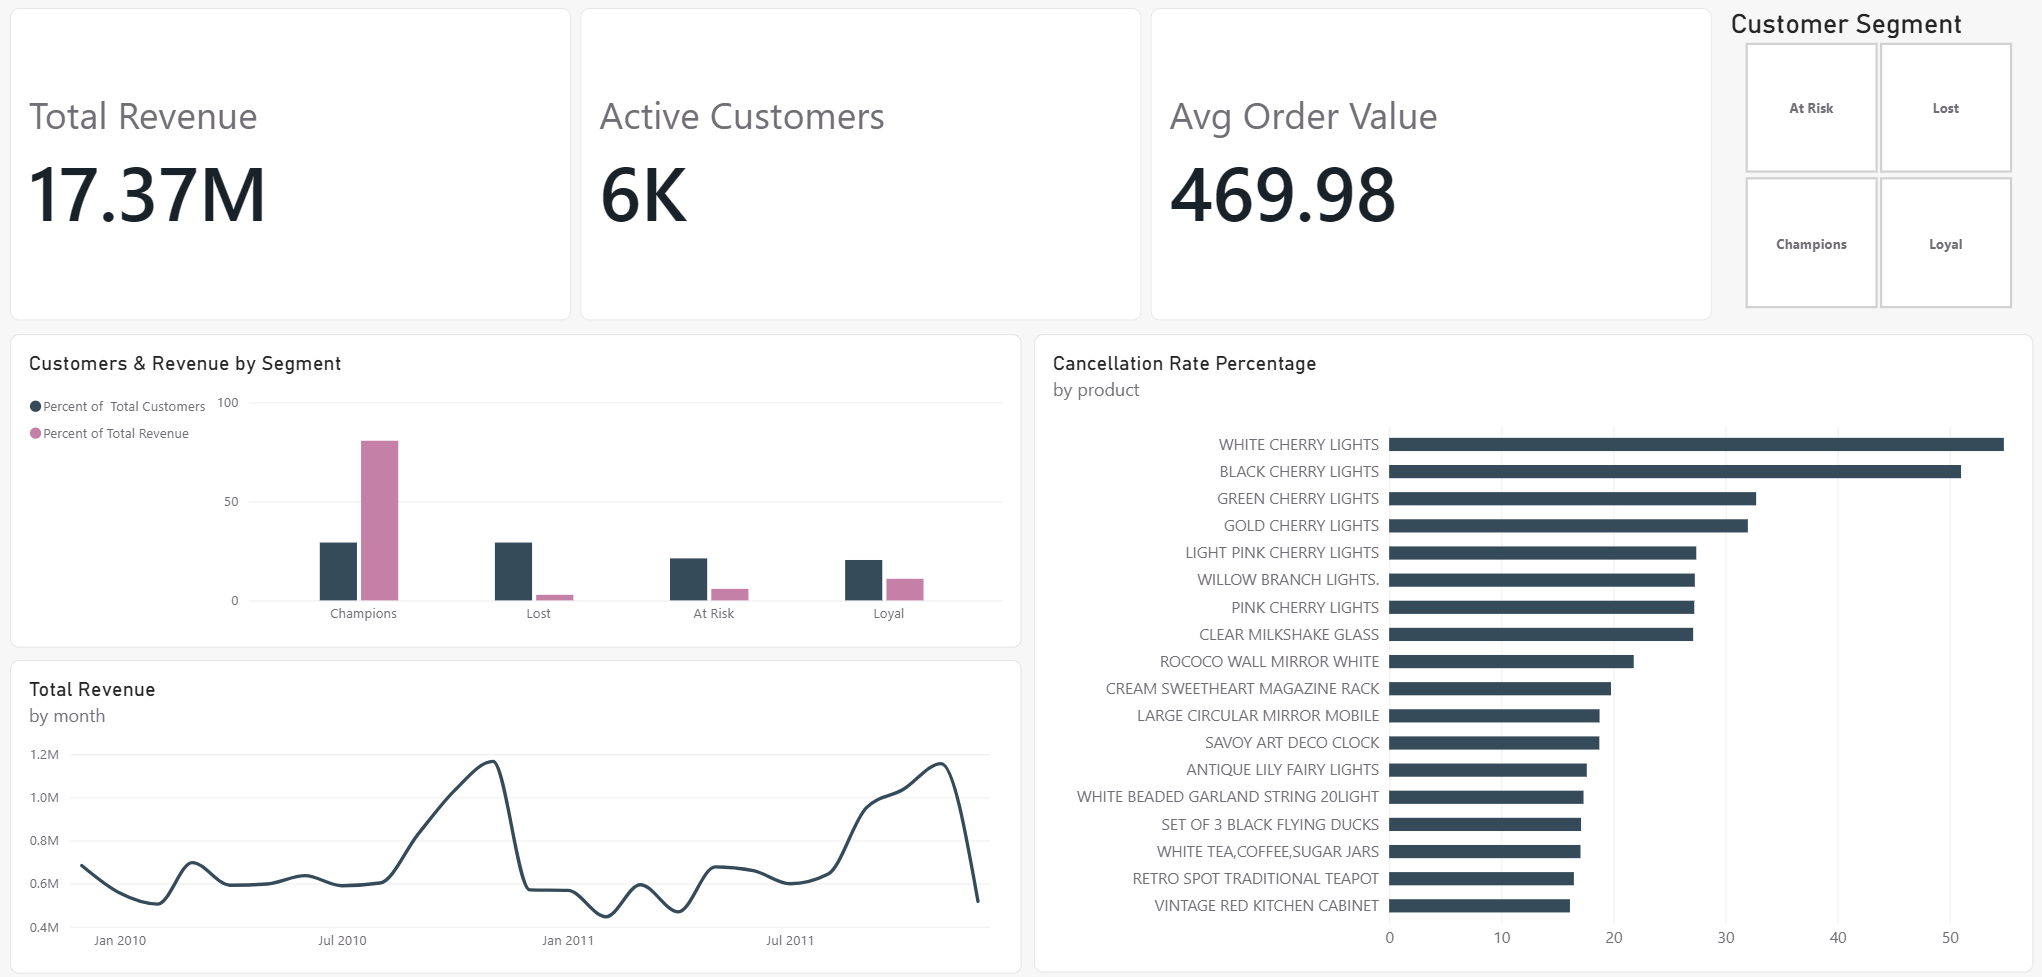

The dashboard page shown, as its layout file describes it:
{"tool":"powerbi","page":{"name":"Page 1","canvas":[1920,1080],"ordinal":0},"visuals":[{"type":"cardVisual","fields":{"Data":["rfm_customer_segments.Total Revenue","rfm_customer_segments.Active Customers","rfm_customer_segments.Avg Order Value"]},"box":[56.9,15.7,1519.5,279.8],"z":0},{"type":"clusteredColumnChart","title":"Customers & Revenue by Segment","fields":{"Category":["segment_summary.segment"],"Y":["Sum(segment_summary.pct_of_customers)","Sum(segment_summary.pct_of_revenue)"]},"box":[56.9,307.2,903.1,279.8],"z":1000},{"type":"lineChart","fields":{"Category":["monthly_revenue.month"],"Y":["Sum(monthly_revenue.total_revenue)"]},"box":[56.9,597.8,903,280],"z":2000},{"type":"clusteredBarChart","fields":{"Category":["cancellation_by_product.product"],"Y":["Sum(cancellation_by_product.cancellation_rate_pct)"]},"box":[970.8,307.2,892.3,570.3],"z":3000},{"type":"slicer","fields":{"Values":["segment_summary.segment"]},"box":[1585.3,15.7,277.8,279.8],"z":4000}]}

Visuals, with their boxes on the page's 1920x1080 design canvas (x1, y1, x2, y2). These are canvas units, not pixel positions in the 2042x977 screenshot, which may show the page scaled, cropped or inside an application window:
cardVisual - rfm_customer_segments.Total Revenue x rfm_customer_segments.Active Customers: x1=57, y1=16, x2=1576, y2=296
"Customers & Revenue by Segment" clusteredColumnChart: x1=57, y1=307, x2=960, y2=587
lineChart - monthly_revenue.month x Sum(monthly_revenue.total_revenue): x1=57, y1=598, x2=960, y2=878
clusteredBarChart - cancellation_by_product.product x Sum(cancellation_by_product.cancellation_rate_pct): x1=971, y1=307, x2=1863, y2=878
slicer - segment_summary.segment: x1=1585, y1=16, x2=1863, y2=296
